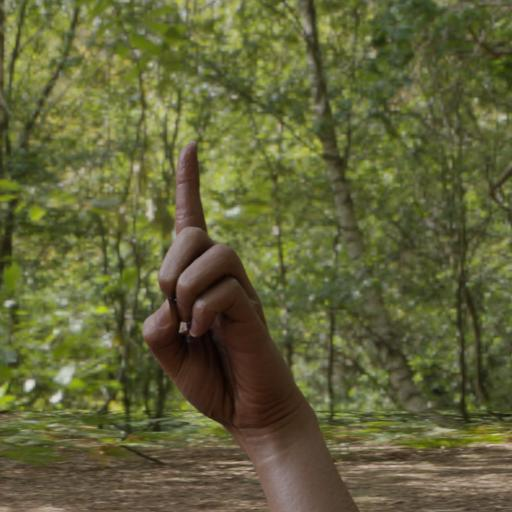D: (127, 134, 316, 446)
